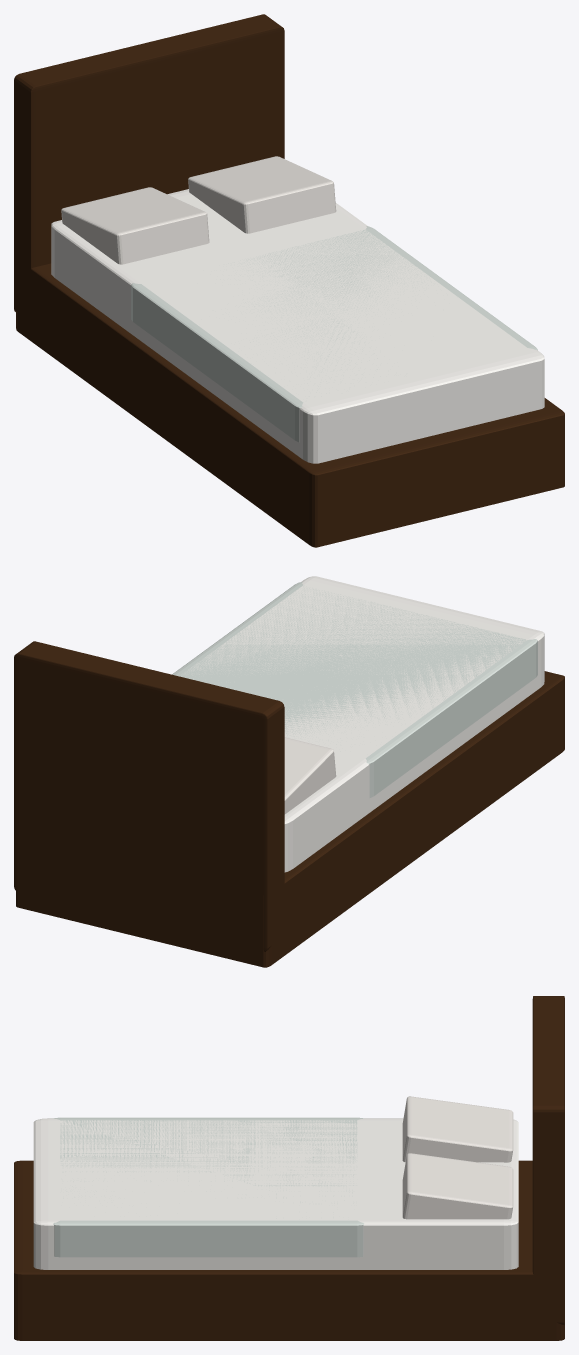
The model's file is bed_single.glb.
The picture shows the model from 3 angles, top to bottom: view 1: azimuth 30°, elevation 25°; view 2: azimuth 150°, elevation 25°; view 3: azimuth 270°, elevation 25°; orthographic projection. The views are drawn at different scales.
Parts seen in each view (by area): view 1: Cube.002, Cube, Cube.001, Cube.003, Cube.005, Cube.004; view 2: Cube.001, Cube, Cube.003, Cube.002, Cube.004; view 3: Cube.002, Cube, Cube.003, Cube.001, Cube.005, Cube.004.
Part boxes in pixels (x1,y1,x2,y2): Cube.002: [51, 189, 544, 463]; Cube: [16, 260, 564, 547]; Cube.001: [14, 14, 284, 314]; Cube.003: [131, 226, 537, 442]; Cube.005: [188, 156, 336, 233]; Cube.004: [61, 187, 209, 264]; Cube.001: [14, 641, 284, 951]; Cube: [16, 671, 564, 967]; Cube.003: [172, 582, 537, 797]; Cube.002: [185, 576, 544, 872]; Cube.004: [284, 737, 336, 814]; Cube.002: [33, 1118, 518, 1269]; Cube: [14, 1160, 564, 1340]; Cube.003: [53, 1117, 364, 1257]; Cube.001: [532, 996, 564, 1324]; Cube.005: [402, 1153, 513, 1219]; Cube.004: [402, 1096, 513, 1162].
Size of the model in its own units: 1 by 0.96 by 2.05.
